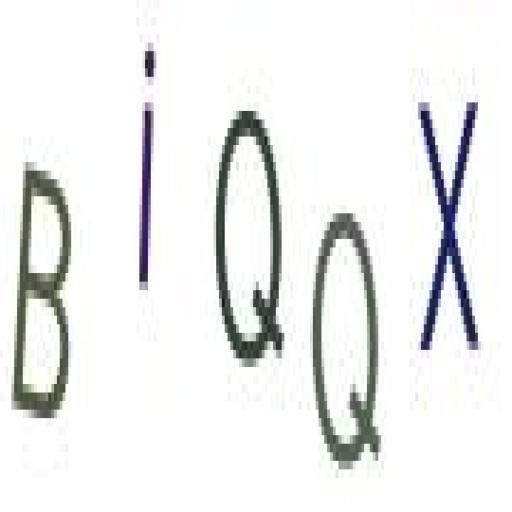B: (6, 143, 82, 447)
Q: (208, 80, 288, 385), (303, 192, 384, 487)
X: (415, 81, 492, 371)
i: (132, 30, 158, 305)
